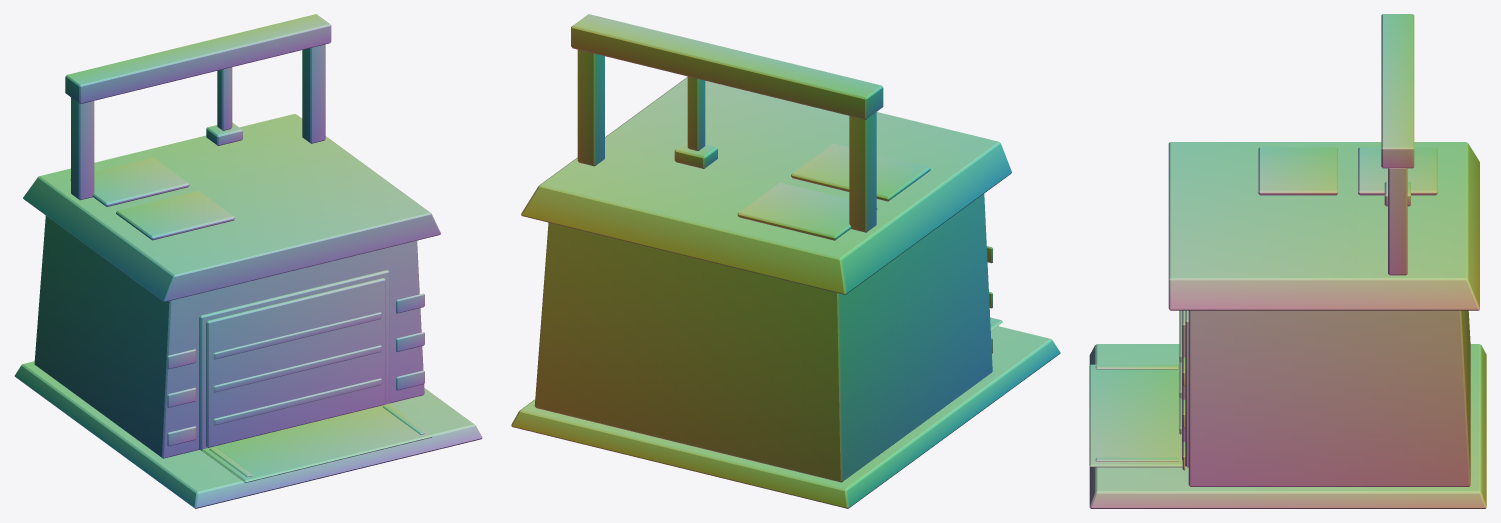
The model's file is addon_armour_rig.glb.
3 renders of one model, left to right at view 1: azimuth 30°, elevation 25°; view 2: azimuth 150°, elevation 25°; view 3: azimuth 270°, elevation 25°, orthographic. The views are drawn at different scales.
Visible parts, largest first — view 1: body; view 2: body; view 3: body.
Part boxes in pixels (<box>): body: <box>14,14,482,508</box>; body: <box>511,14,1060,508</box>; body: <box>1089,14,1486,508</box>.
Size of the model in its own units: 10.96 by 11.7 by 11.98.
